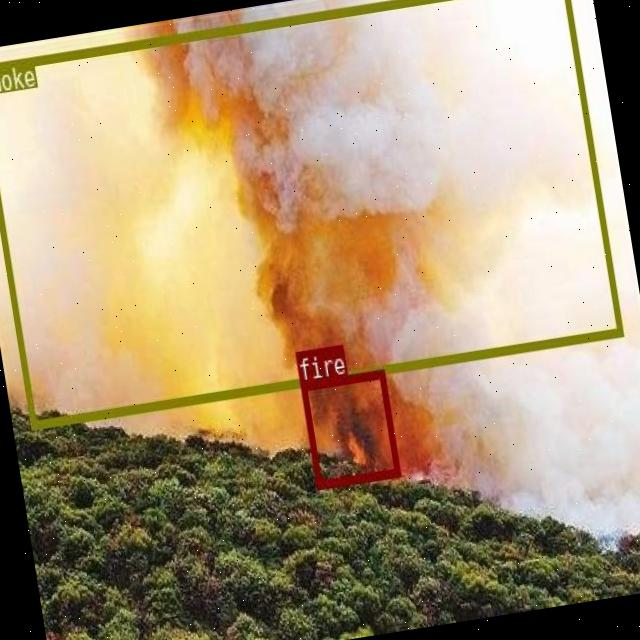fire: (300, 368, 400, 488)
smoke: (0, 0, 622, 428)
